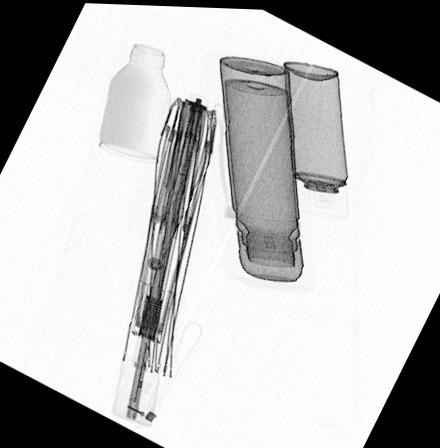Sprayer: (283, 56, 346, 216)
